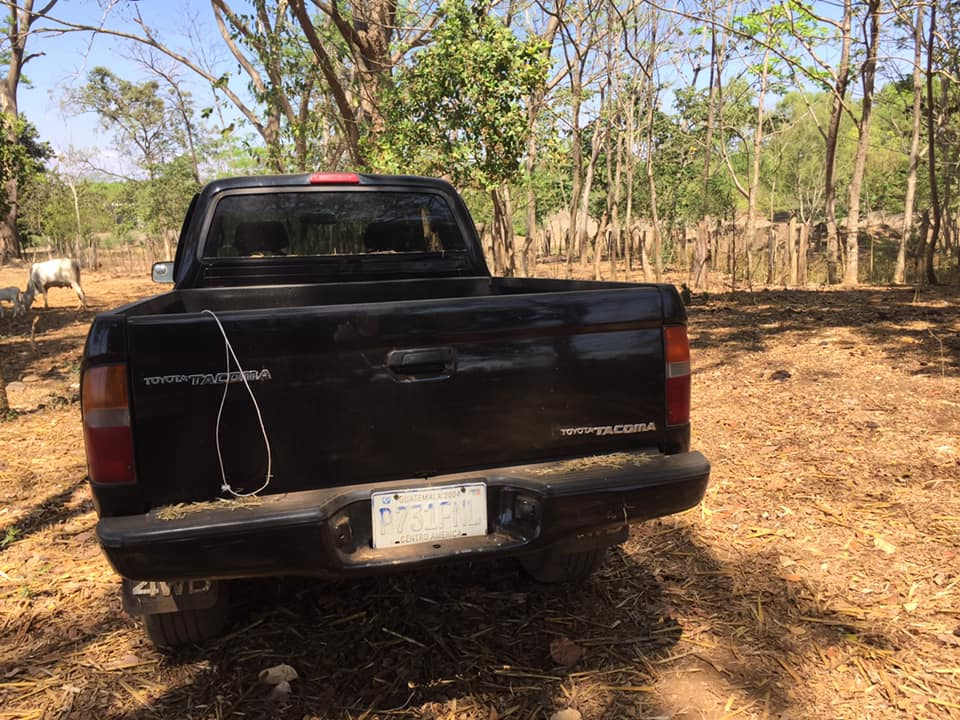pickup: (77, 171, 710, 640)
